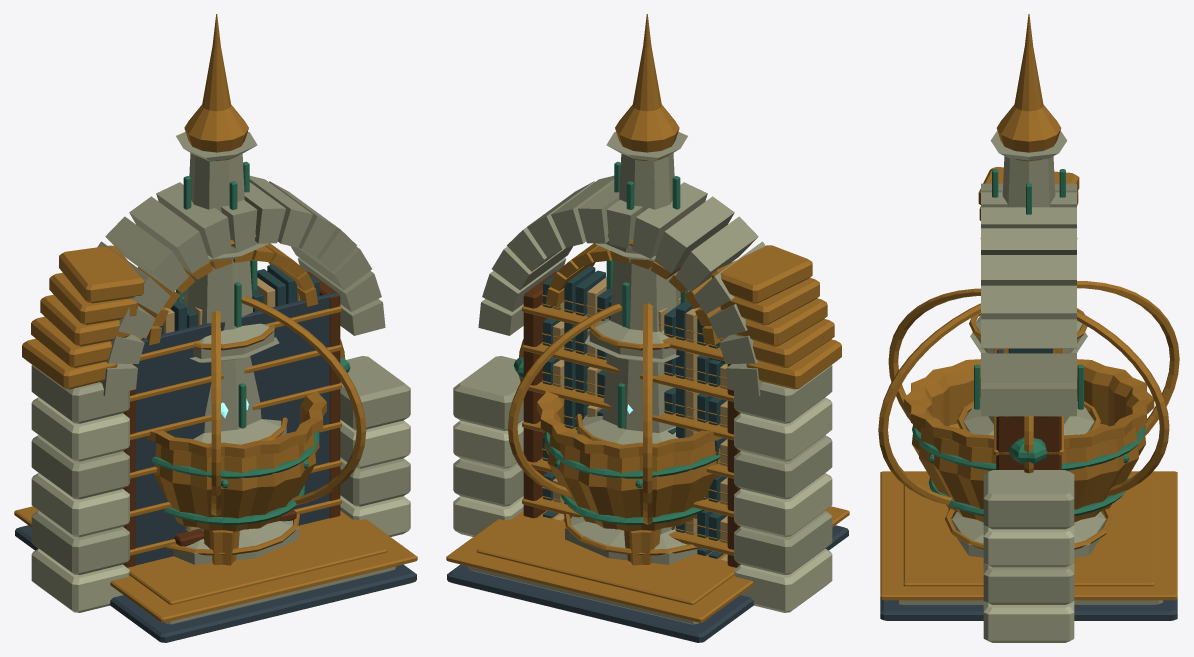
Rendered from celestial_fall.glb.
3 views of the same model, side by side, from view 1: azimuth 30°, elevation 25°; view 2: azimuth 150°, elevation 25°; view 3: azimuth 270°, elevation 25° (orthographic).
Parts seen in each view (by area): view 1: BrokenArch_stone, ArchiveShelf_dark, BrokenArch_stone_light, CelestialSpire_trim, CelestialSpire_stone, BronzeCauldron_trim, BrokenArch_trim, Orrery_trim, ArchiveShelf_trim, Orrery_dark, ArchiveShelf_wood, BronzeCauldron_jade (+4 smaller); view 2: BrokenArch_stone, BrokenArch_stone_light, CelestialSpire_stone, CelestialSpire_trim, BronzeCauldron_trim, ArchiveShelf_trim, BrokenArch_trim, Orrery_trim, ArchiveShelf_book, Orrery_dark, ArchiveShelf_wood, ArchiveShelf_paper (+3 smaller); view 3: BrokenArch_stone, Orrery_trim, CelestialSpire_trim, BronzeCauldron_trim, BrokenArch_stone_light, CelestialSpire_stone, Orrery_dark, ArchiveShelf_wood, BronzeCauldron_jade, CelestialSpire_jade, Orrery_stone, Orrery_jade (+2 smaller).
Boxes of the visible parts, <box> form: BrokenArch_stone: <box>31,175,410,574</box>; ArchiveShelf_dark: <box>135,292,338,565</box>; BrokenArch_stone_light: <box>31,397,410,612</box>; CelestialSpire_trim: <box>128,14,387,604</box>; CelestialSpire_stone: <box>173,132,298,564</box>; BronzeCauldron_trim: <box>147,390,326,565</box>; BrokenArch_trim: <box>22,245,144,389</box>; Orrery_trim: <box>14,296,417,622</box>; ArchiveShelf_trim: <box>130,243,341,555</box>; Orrery_dark: <box>15,525,416,642</box>; ArchiveShelf_wood: <box>123,271,340,567</box>; BronzeCauldron_jade: <box>151,431,319,524</box>; BrokenArch_stone: <box>453,175,832,574</box>; BrokenArch_stone_light: <box>453,397,832,612</box>; CelestialSpire_stone: <box>565,132,697,564</box>; CelestialSpire_trim: <box>476,14,735,604</box>; BronzeCauldron_trim: <box>537,390,722,565</box>; ArchiveShelf_trim: <box>522,243,733,555</box>; BrokenArch_trim: <box>712,245,841,389</box>; Orrery_trim: <box>446,290,849,622</box>; ArchiveShelf_book: <box>543,266,726,558</box>; Orrery_dark: <box>447,525,848,642</box>; ArchiveShelf_wood: <box>523,272,740,567</box>; ArchiveShelf_paper: <box>553,277,728,560</box>; BrokenArch_stone: <box>981,183,1076,604</box>; Orrery_trim: <box>878,281,1179,600</box>; CelestialSpire_trim: <box>903,14,1154,586</box>; BronzeCauldron_trim: <box>903,359,1154,522</box>; BrokenArch_stone_light: <box>983,525,1074,642</box>; CelestialSpire_stone: <box>952,130,1105,557</box>; Orrery_dark: <box>880,599,1177,620</box>; ArchiveShelf_wood: <box>996,416,1061,469</box>; BronzeCauldron_jade: <box>912,424,1145,515</box>; CelestialSpire_jade: <box>974,169,1083,409</box>; Orrery_stone: <box>895,600,1162,604</box>; Orrery_jade: <box>1009,437,1047,464</box>.
Bounding box in the file's own units: 8 × 12 × 6.
